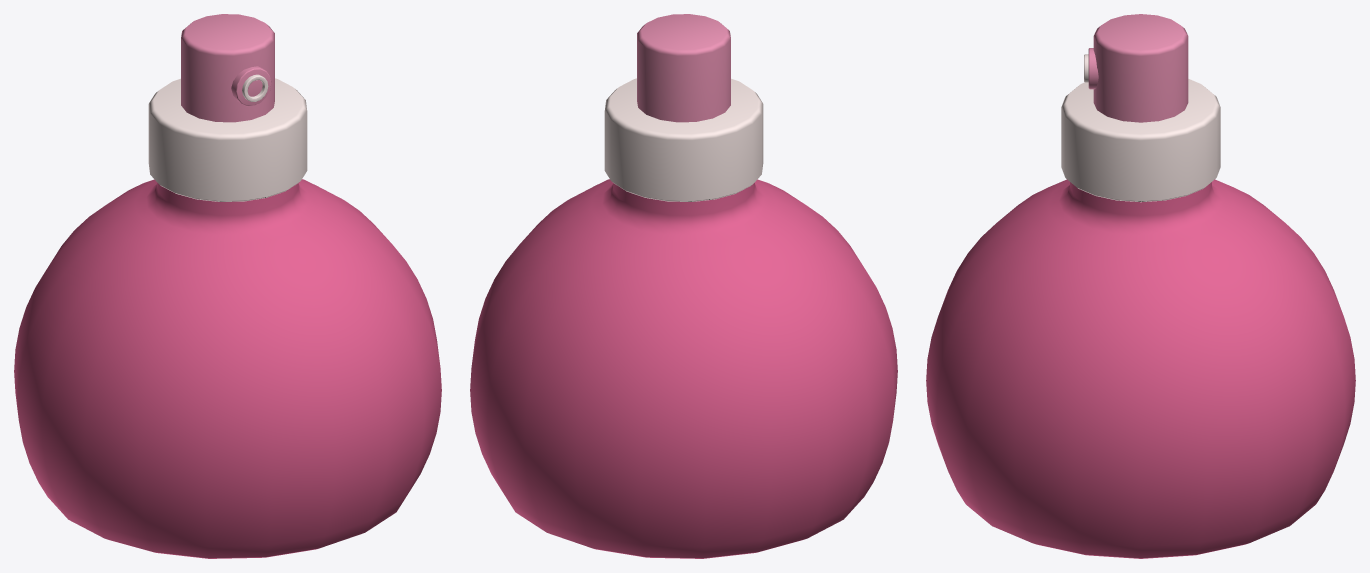
Rendered from Isl_7_Perfume_Bottle_1.fbx.
3 renders of one model, left to right at view 1: azimuth 30°, elevation 25°; view 2: azimuth 150°, elevation 25°; view 3: azimuth 270°, elevation 25°, orthographic.
Visible parts, largest first — view 1: Isl_7_Perfume_Bottle_1; view 2: Isl_7_Perfume_Bottle_1; view 3: Isl_7_Perfume_Bottle_1.
Boxes of the visible parts, left/top/right/bottom form: Isl_7_Perfume_Bottle_1: left=14, top=14, right=441, bottom=558; Isl_7_Perfume_Bottle_1: left=470, top=14, right=897, bottom=558; Isl_7_Perfume_Bottle_1: left=926, top=14, right=1355, bottom=558.
Size of the model in its own units: 99.1 by 115 by 99.1.
